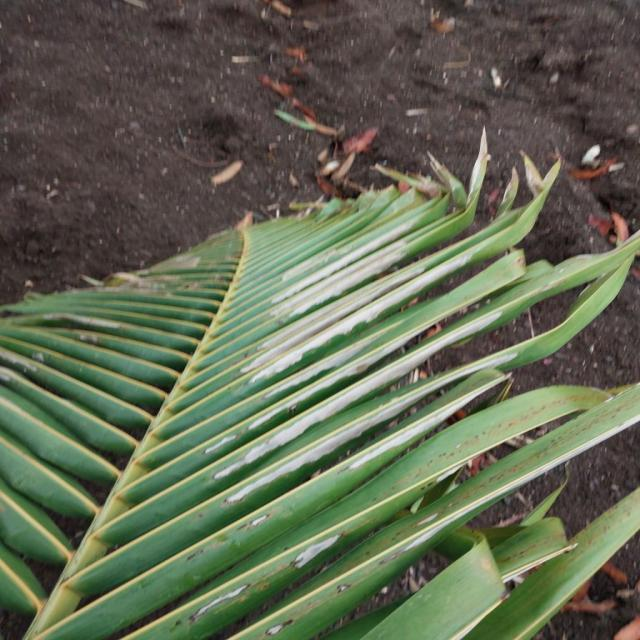gray leaf spot: (221, 230, 495, 516)
